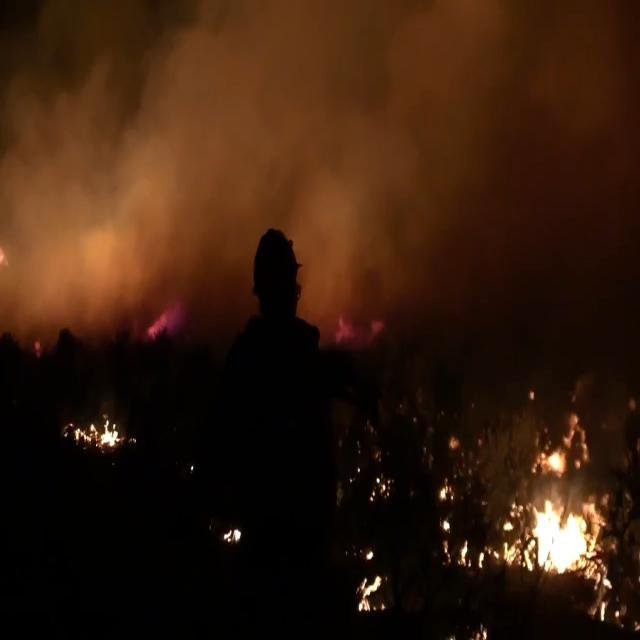Fire: (493, 426, 622, 586)
